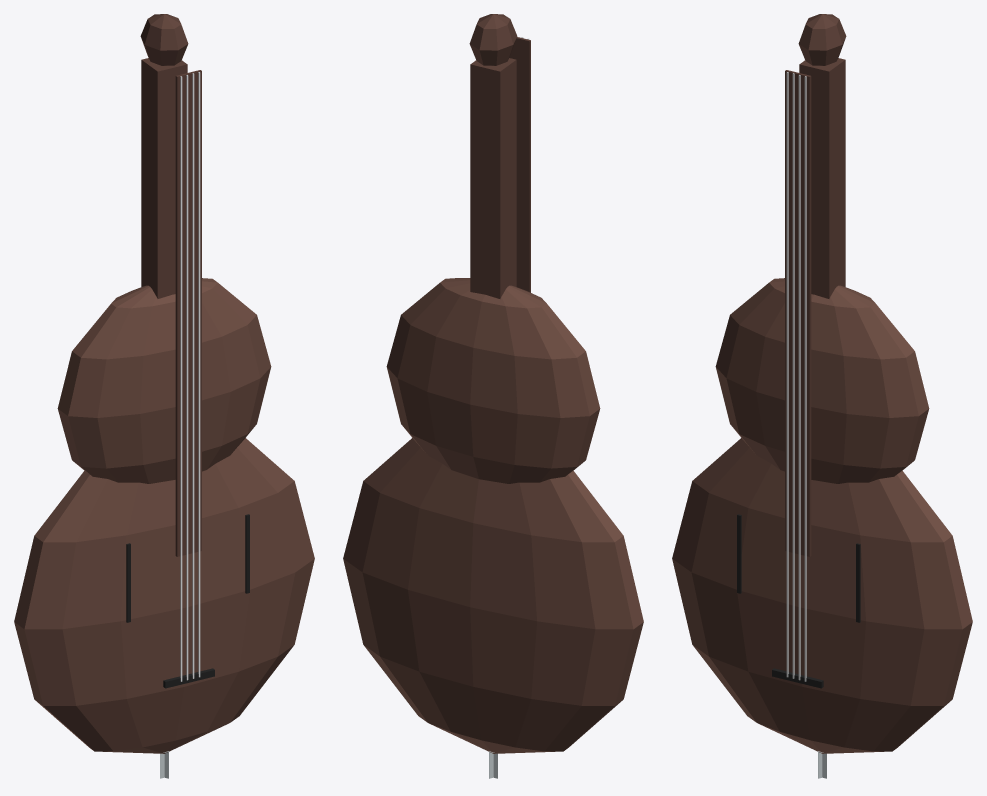
File: kontrabas.glb
3 renders of one model, left to right at view 1: azimuth 30°, elevation 25°; view 2: azimuth 150°, elevation 25°; view 3: azimuth 330°, elevation 25°, orthographic.
Visible parts, largest first — view 1: kontrabas; view 2: kontrabas; view 3: kontrabas.
Part boxes in pixels (<box>): kontrabas: <box>14,14,314,778</box>; kontrabas: <box>343,14,643,778</box>; kontrabas: <box>672,14,972,778</box>.
Size of the model in its own units: 0.936 by 2.36 by 0.2761.
